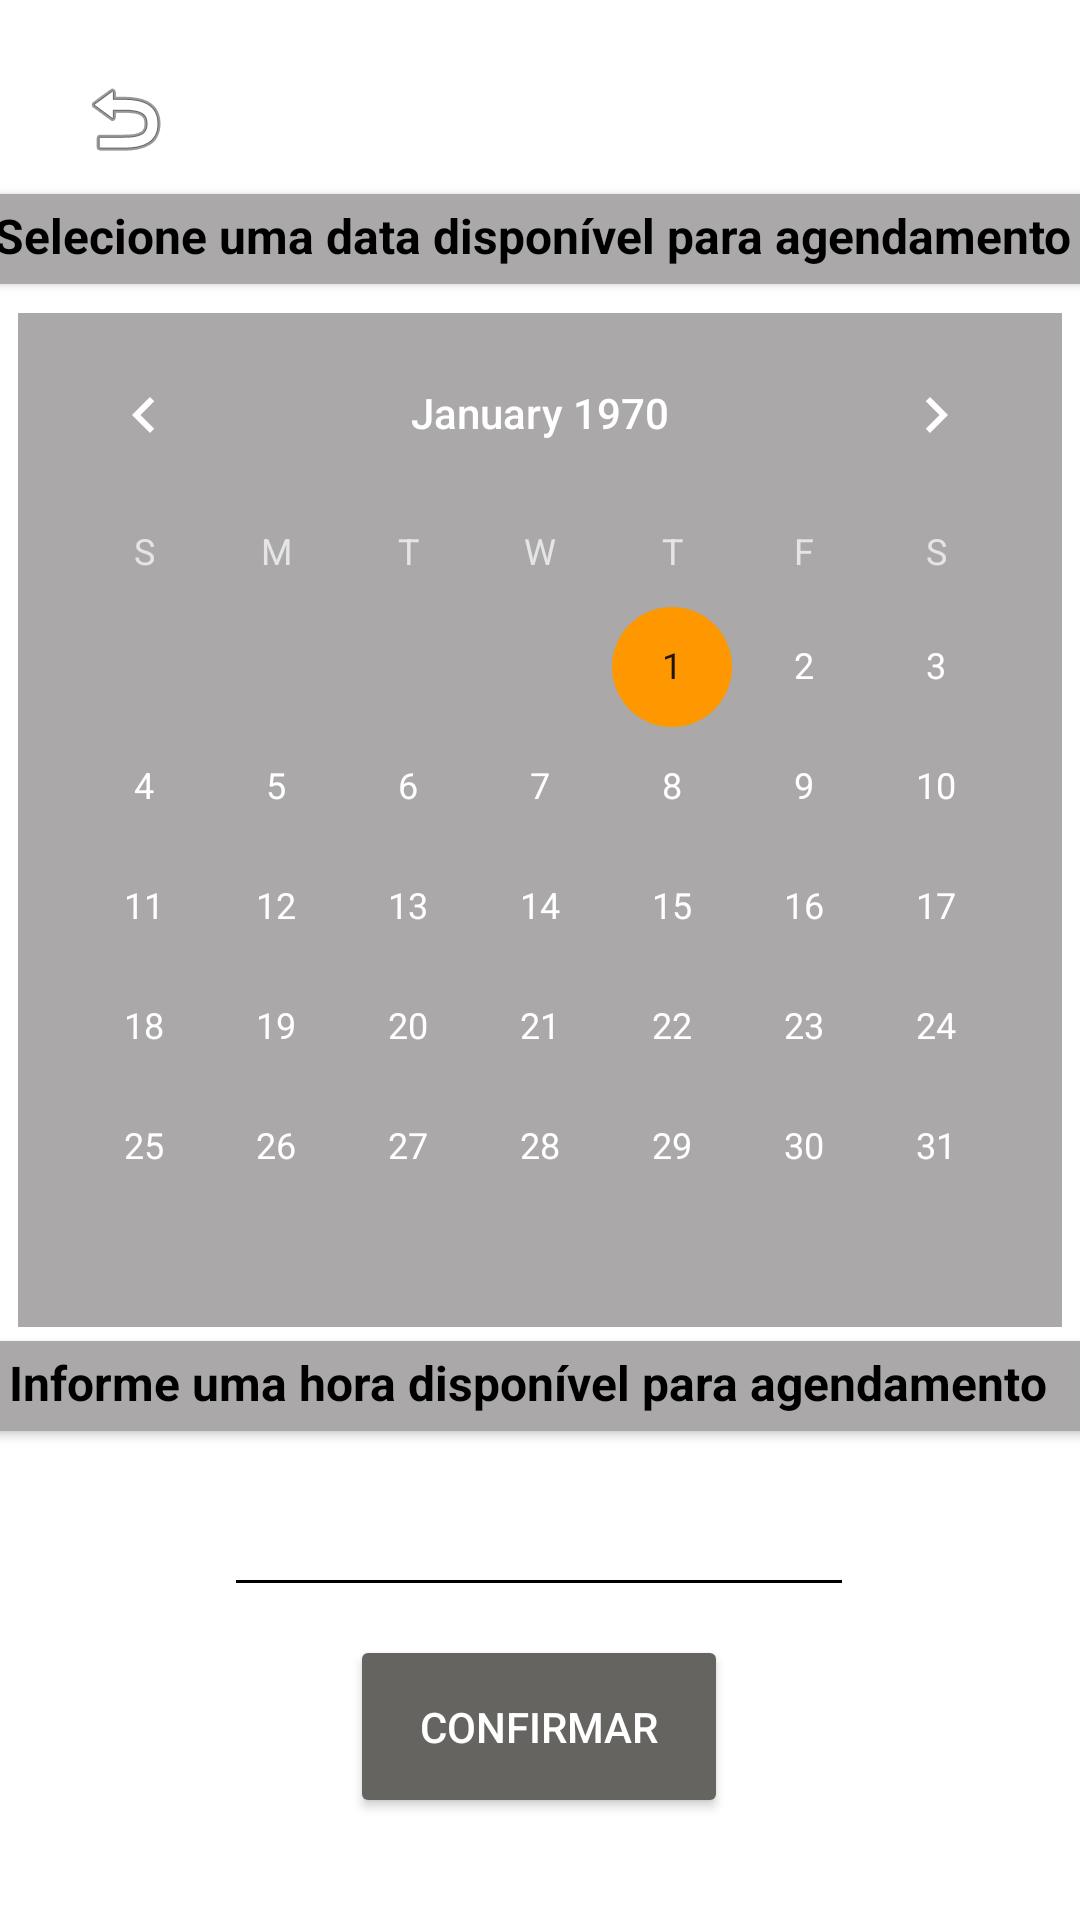

Named icons in this screenshot (1080w x 1920h) and their centers, (x=x, y=y):
revert: (x=126, y=119)
